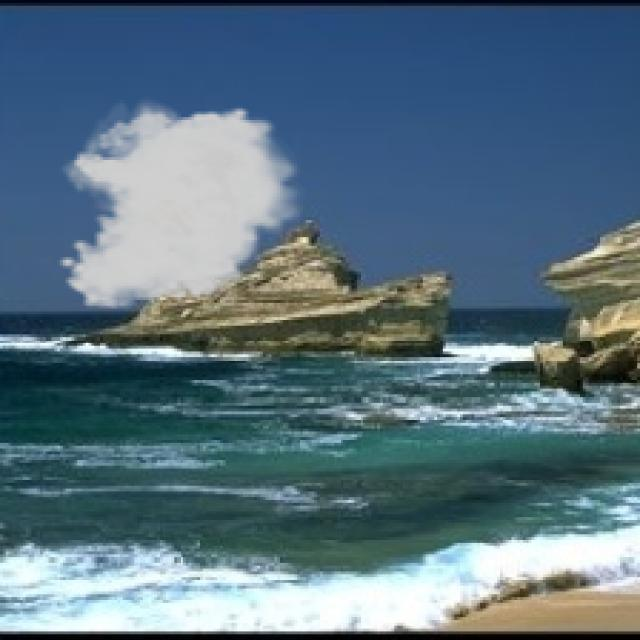Smoke: (57, 95, 309, 312)
